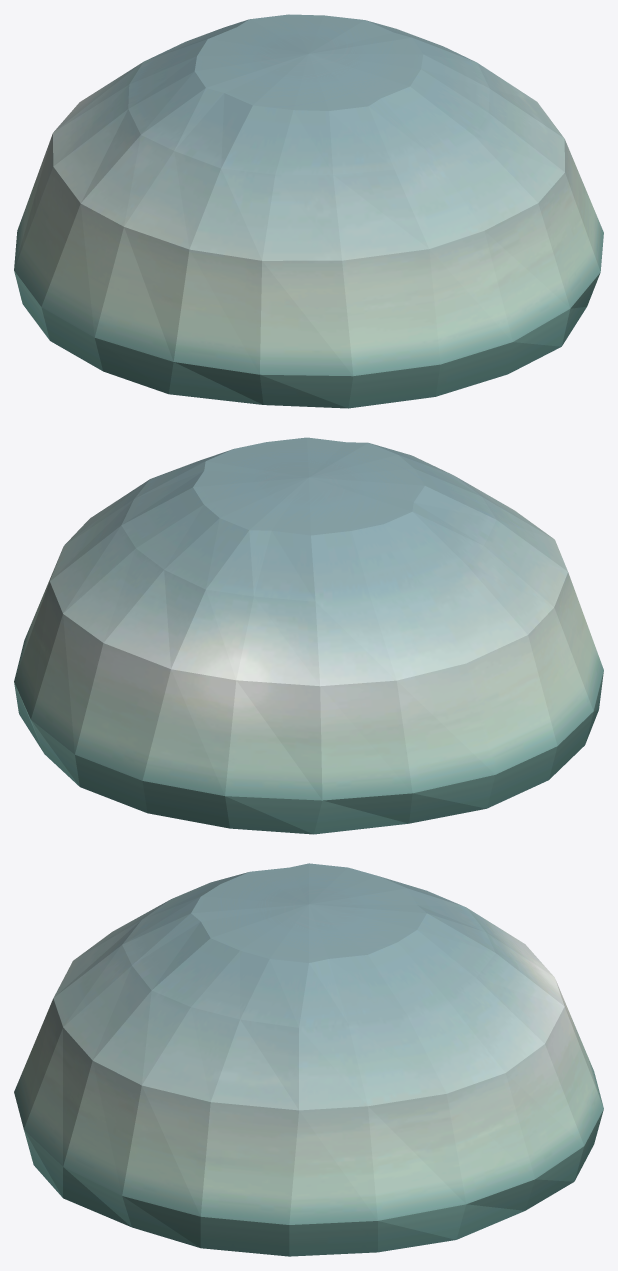
File: C3M5_SKY.obj
The picture shows the model from 3 angles, top to bottom: view 1: azimuth 30°, elevation 25°; view 2: azimuth 150°, elevation 25°; view 3: azimuth 270°, elevation 25°; orthographic projection.
Parts seen in each view (by area): view 1: Node 0; view 2: Node 0; view 3: Node 0.
Boxes of the visible parts, x1=… form: Node 0: x1=14, y1=14, x2=603, y2=408; Node 0: x1=14, y1=437, x2=603, y2=834; Node 0: x1=14, y1=863, x2=603, y2=1256.
Size of the model in its own units: 0.6 by 0.26 by 0.6.
Materials: 8 (8 with a texture image).
